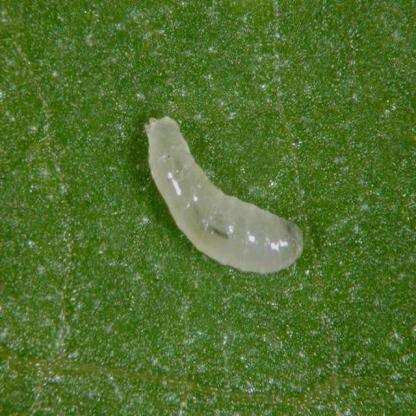whorl-maggot: (142, 107, 307, 278)
